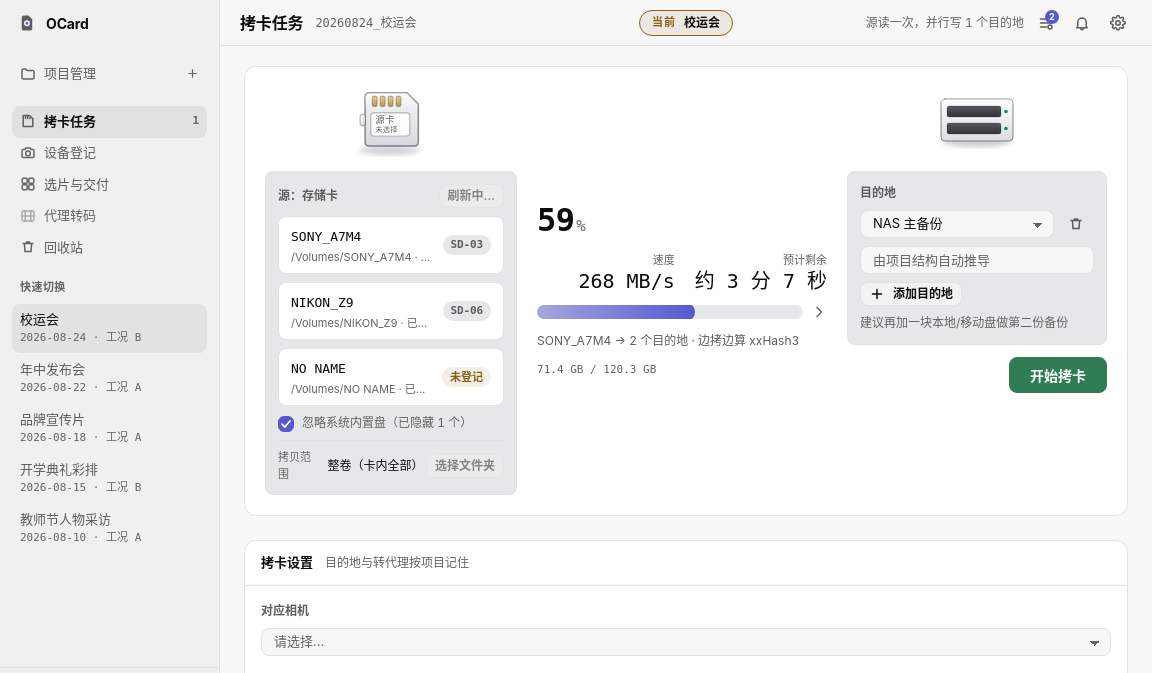
Test case: 任务中心 › 作业行可取消:快照落地(revision 前进),行迁移到历史「已取消」
Step 1. Click the button with test id "task-center-toggle" → [1046, 22], box top-left (1032, 8), bottom-right (1060, 36)
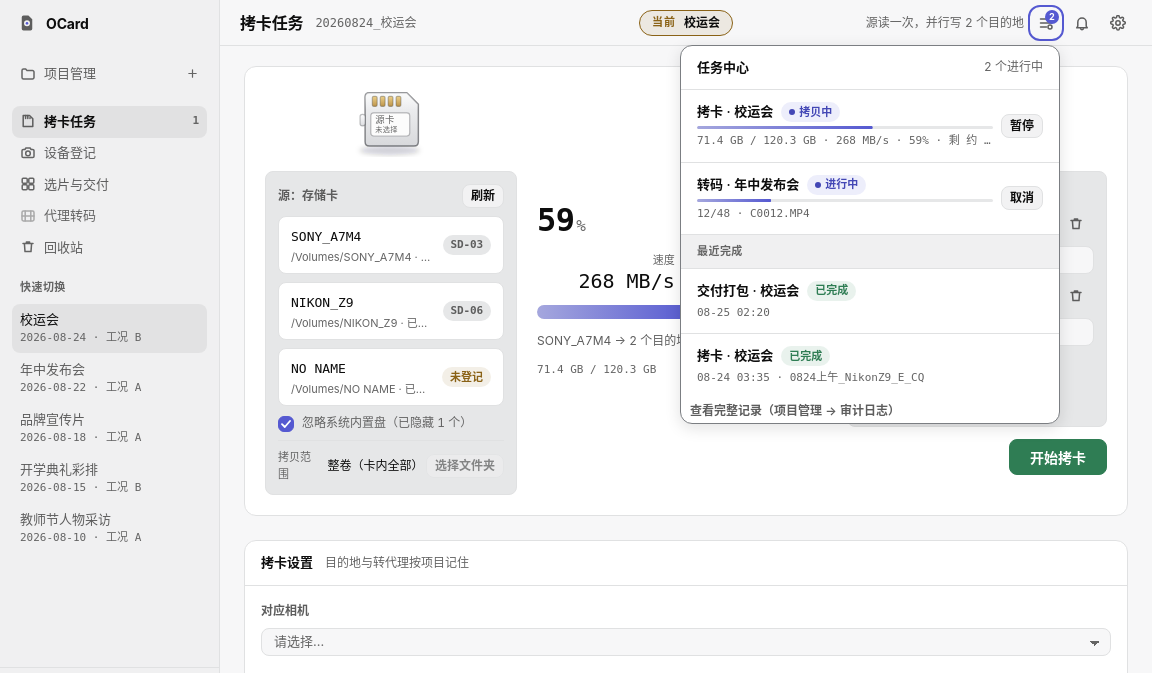
Step 2. Click the button with test id "task-cancel" → [1022, 198], box top-left (1001, 186), bottom-right (1043, 210)
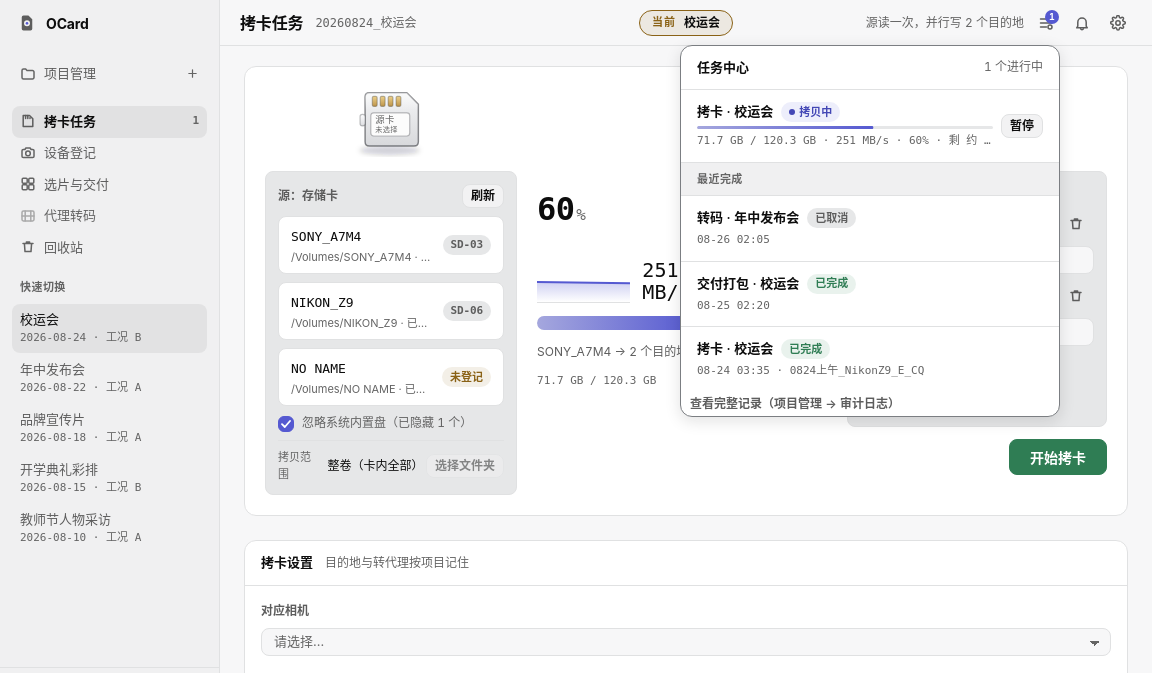
Expected: no buttons with test id "task-cancel" are shown
Expected: the element with test id "task-center-panel" shows "已取消", top-left (697, 208), bottom-right (1043, 248)
